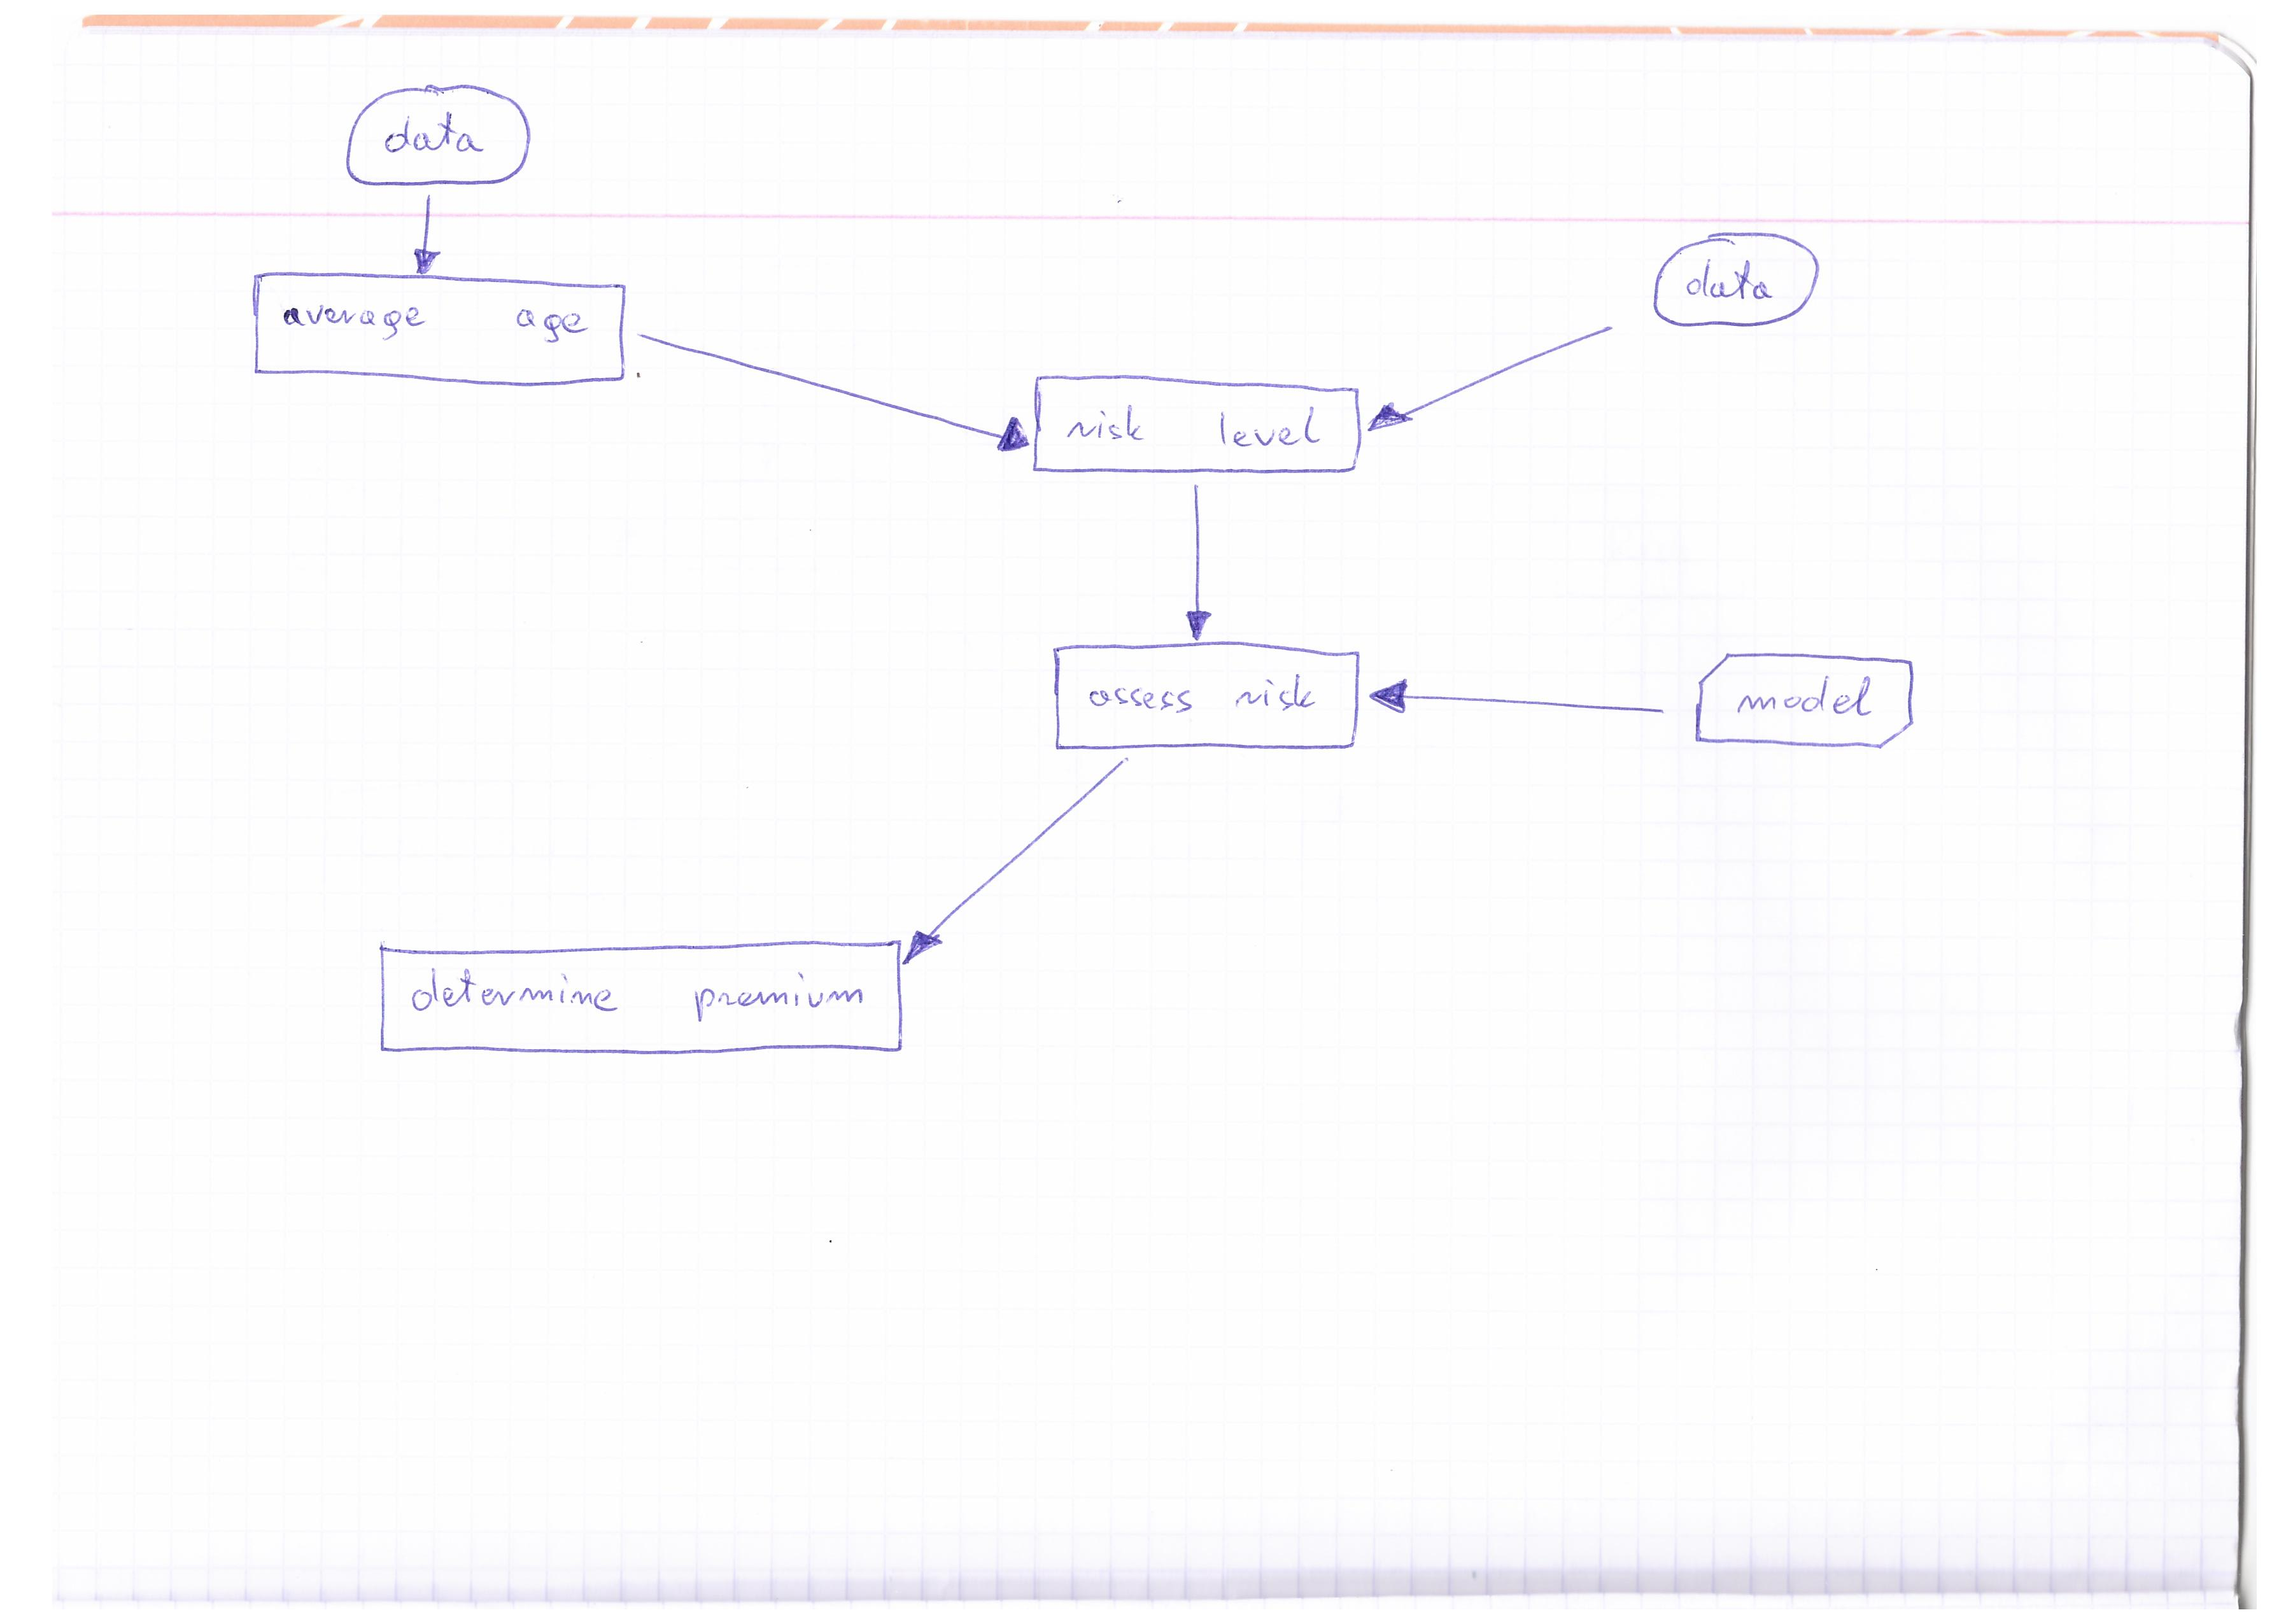arrow_information_requirement: (629, 318, 1037, 475), (901, 754, 1137, 970), (1369, 318, 1627, 448), (1364, 671, 1678, 735)
node_decision: (360, 930, 907, 1062), (241, 265, 634, 390), (1024, 362, 1371, 490), (1038, 633, 1365, 761)
node_input_data: (334, 70, 543, 190), (1636, 207, 1833, 334)
node_knowledge_model: (1683, 640, 1924, 766)
text: (395, 958, 875, 1026), (272, 292, 610, 355), (1056, 392, 1339, 460), (1082, 664, 1332, 728), (1727, 675, 1884, 728), (378, 105, 494, 169), (1676, 251, 1789, 311)
